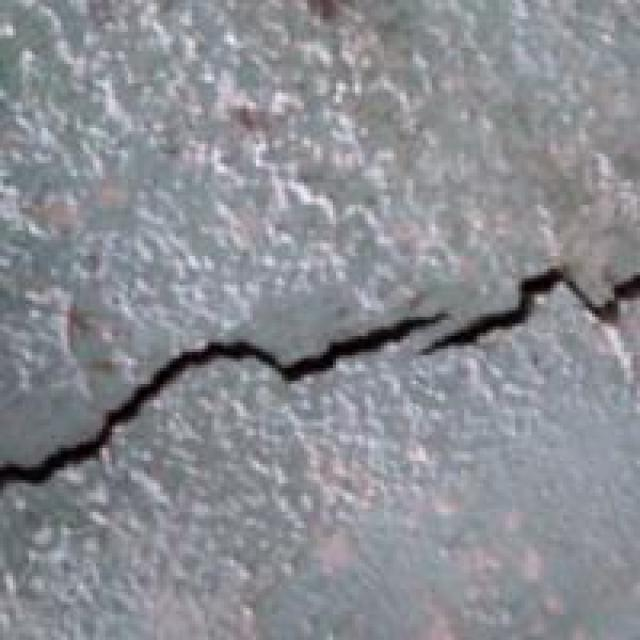Crack: (6, 240, 637, 486)
